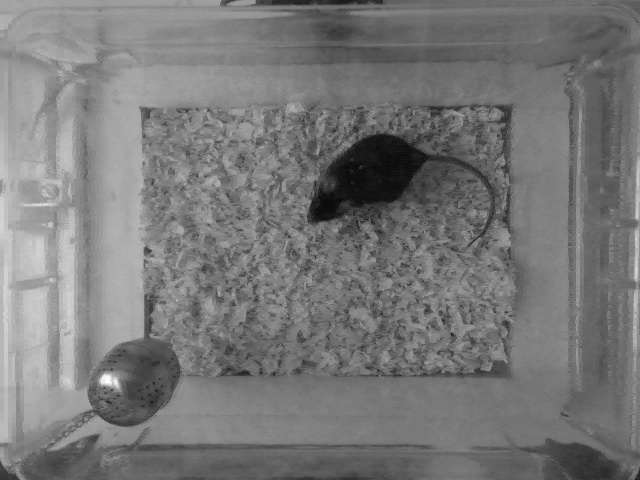mice: (305, 132, 499, 250)
